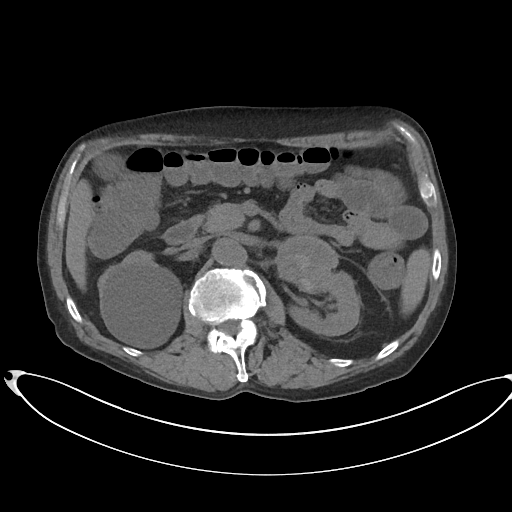Lesion: (273, 234, 343, 289)
